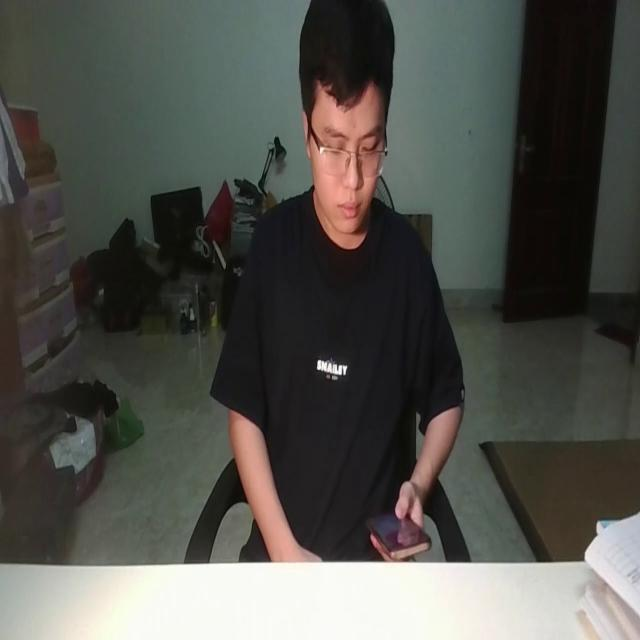phone: (364, 504, 434, 559)
student: (218, 2, 467, 558)
